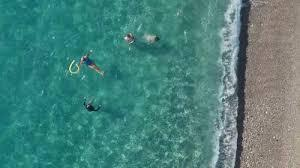Person: (79, 53, 108, 79), (81, 95, 102, 113), (124, 32, 136, 48), (147, 34, 160, 44)
